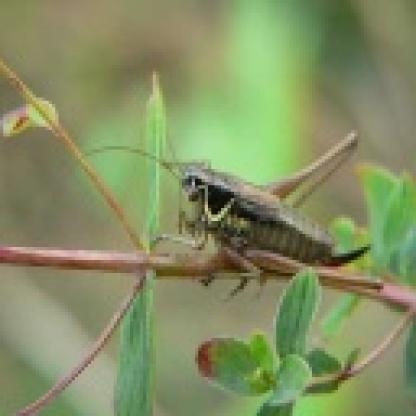grasshopper: (148, 136, 380, 274)
